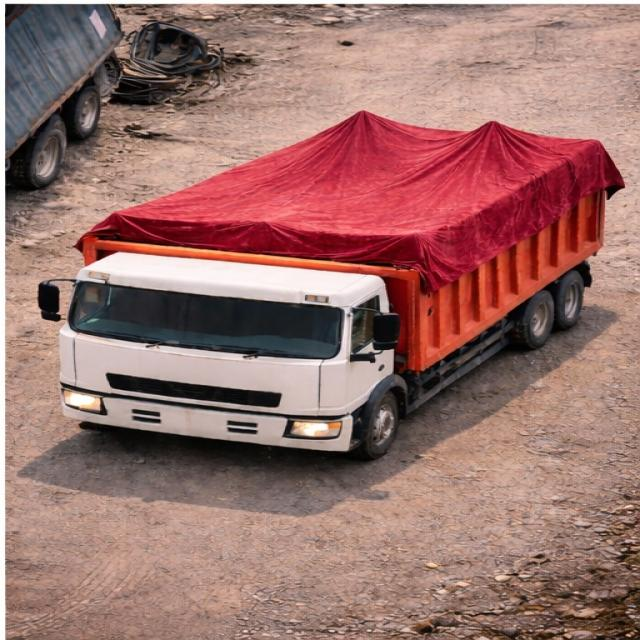Box: (88, 110, 614, 246)
Truck: (27, 90, 627, 460)
